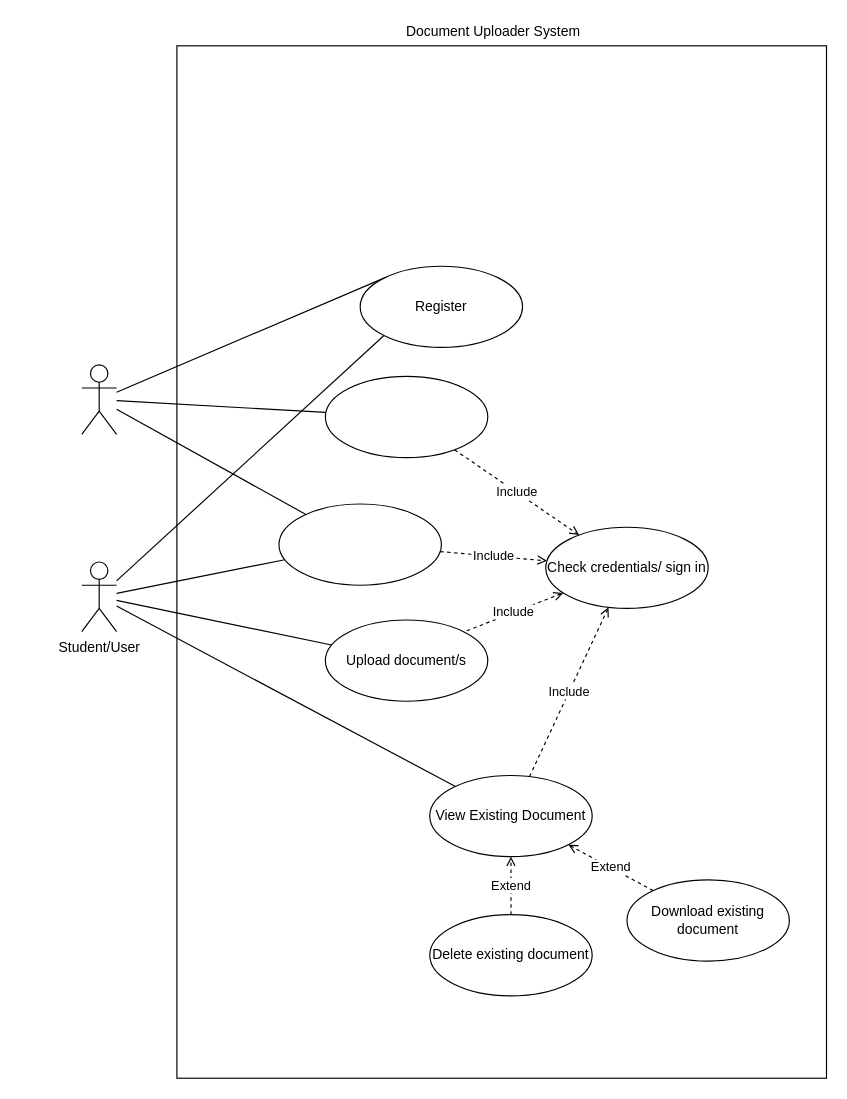
Some shapes in this 847 by 1099 pixel diagram are drawn without their labels. Each missing label, with the centre of its shape:
"Company/Account Owner" goes at [99,399].
"Register Account Users" goes at [406,416].
"Updating User Information" goes at [359,544].
